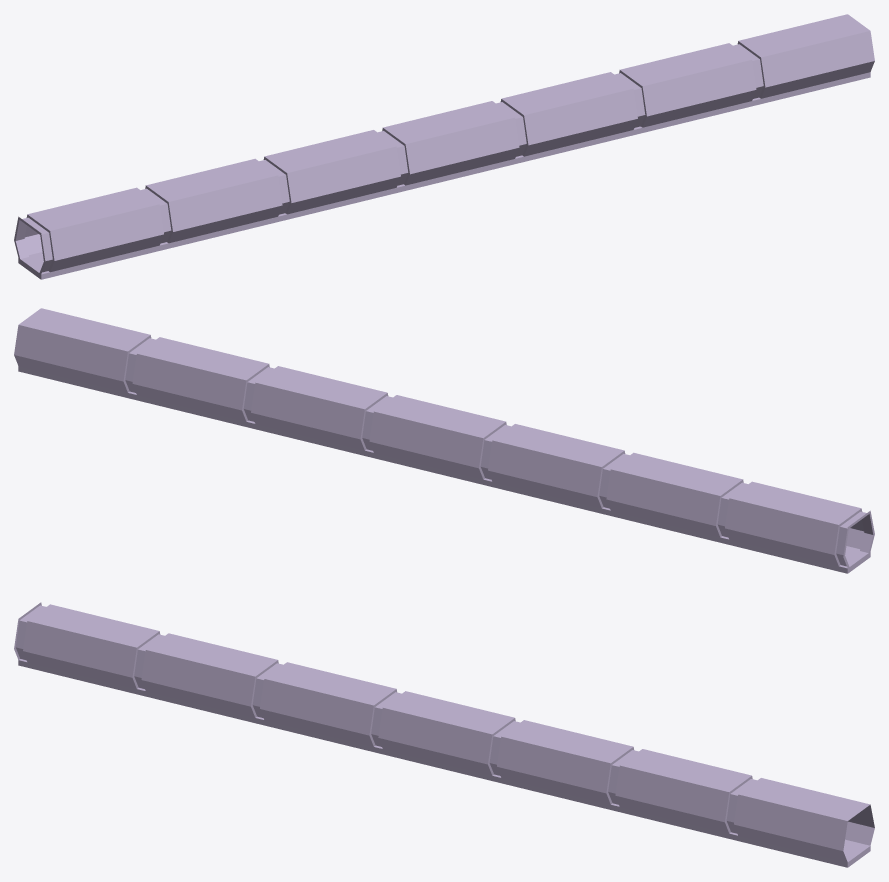
Rendered from corridor.glb.
3 views of the same model, one above another, from view 1: azimuth 30°, elevation 25°; view 2: azimuth 150°, elevation 25°; view 3: azimuth 330°, elevation 25° (orthographic).
Visible parts, largest first — view 1: Cube.004; view 2: Cube.004; view 3: Cube.004.
Boxes of the visible parts, x1,y1,x2,y2 form: Cube.004: (14,14,874,279); Cube.004: (14,308,874,573); Cube.004: (14,602,874,867).
Bounding box in the file's own units: 417 × 22.43 × 27.55.
